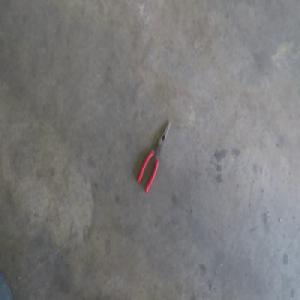Pliers: (136, 124, 170, 198)
